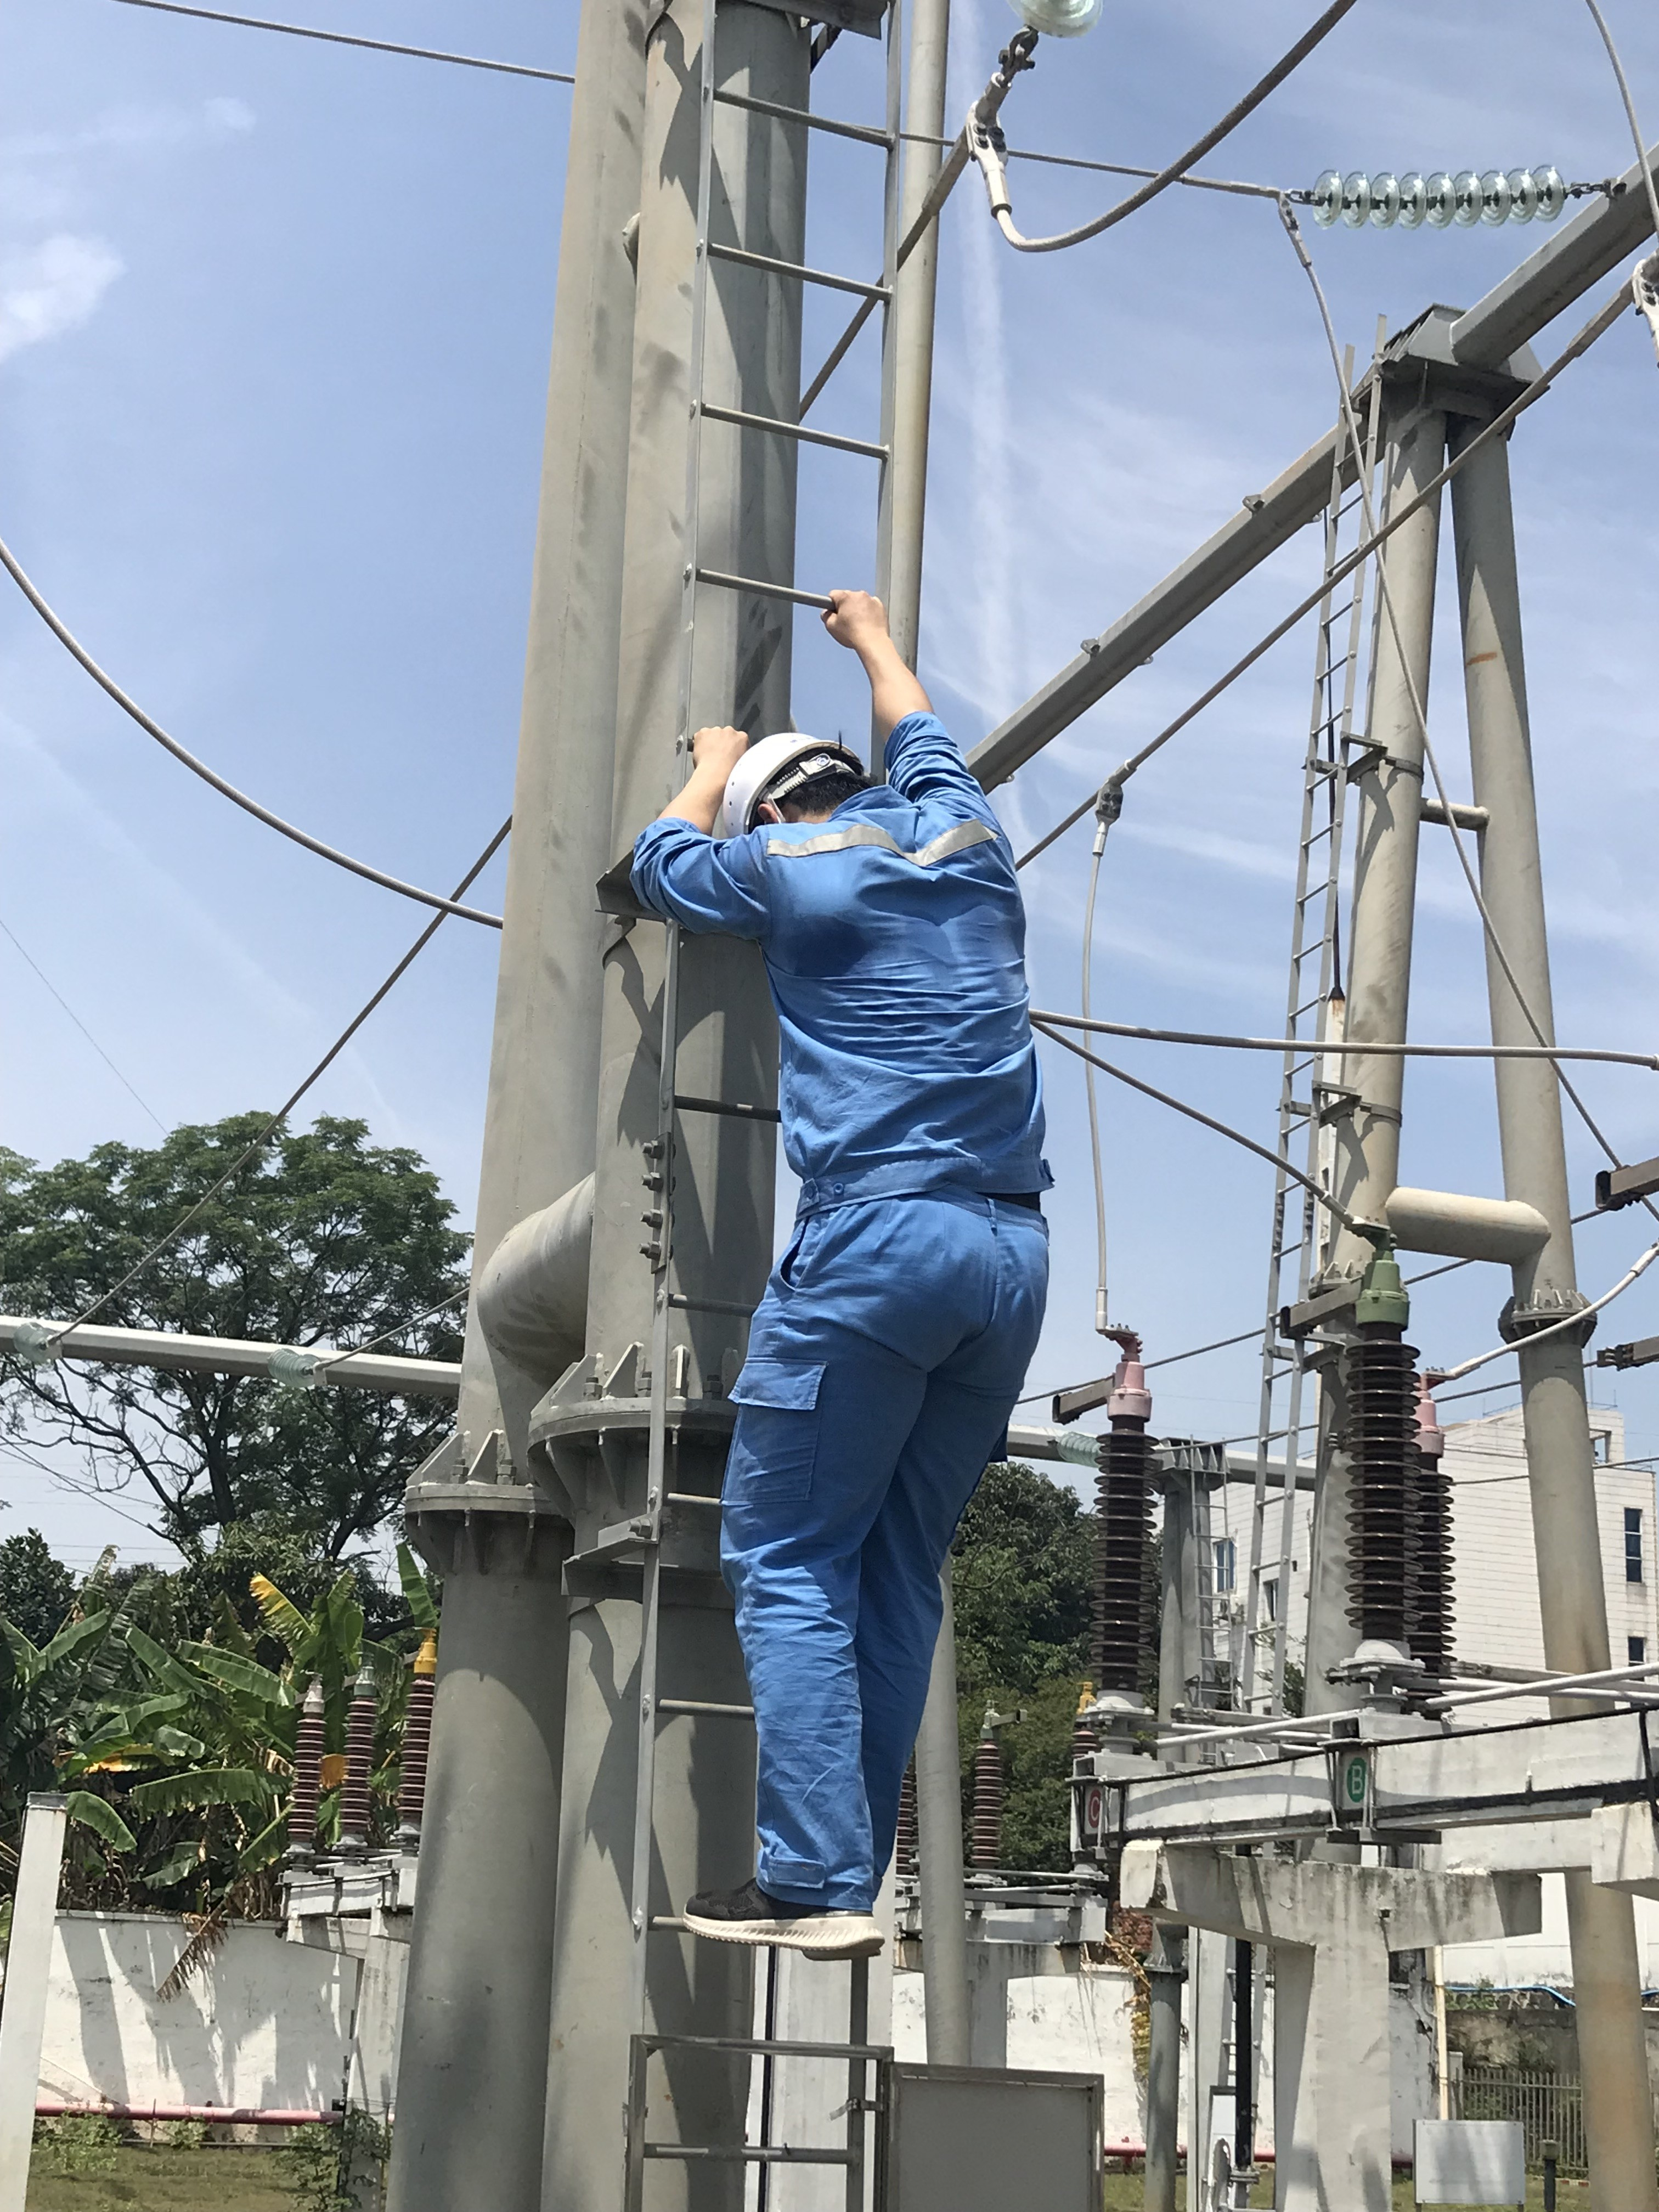downsuit: (739, 1231, 1058, 1893)
upsuit: (626, 794, 1072, 1205)
wrongtop: (843, 617, 962, 780), (638, 747, 716, 888)
